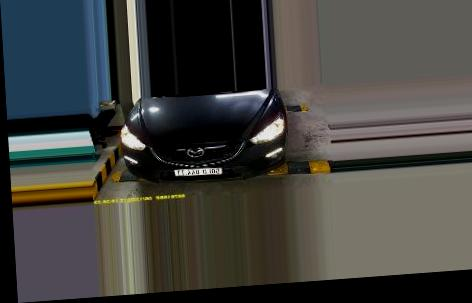License_Plate: (171, 163, 224, 183)
